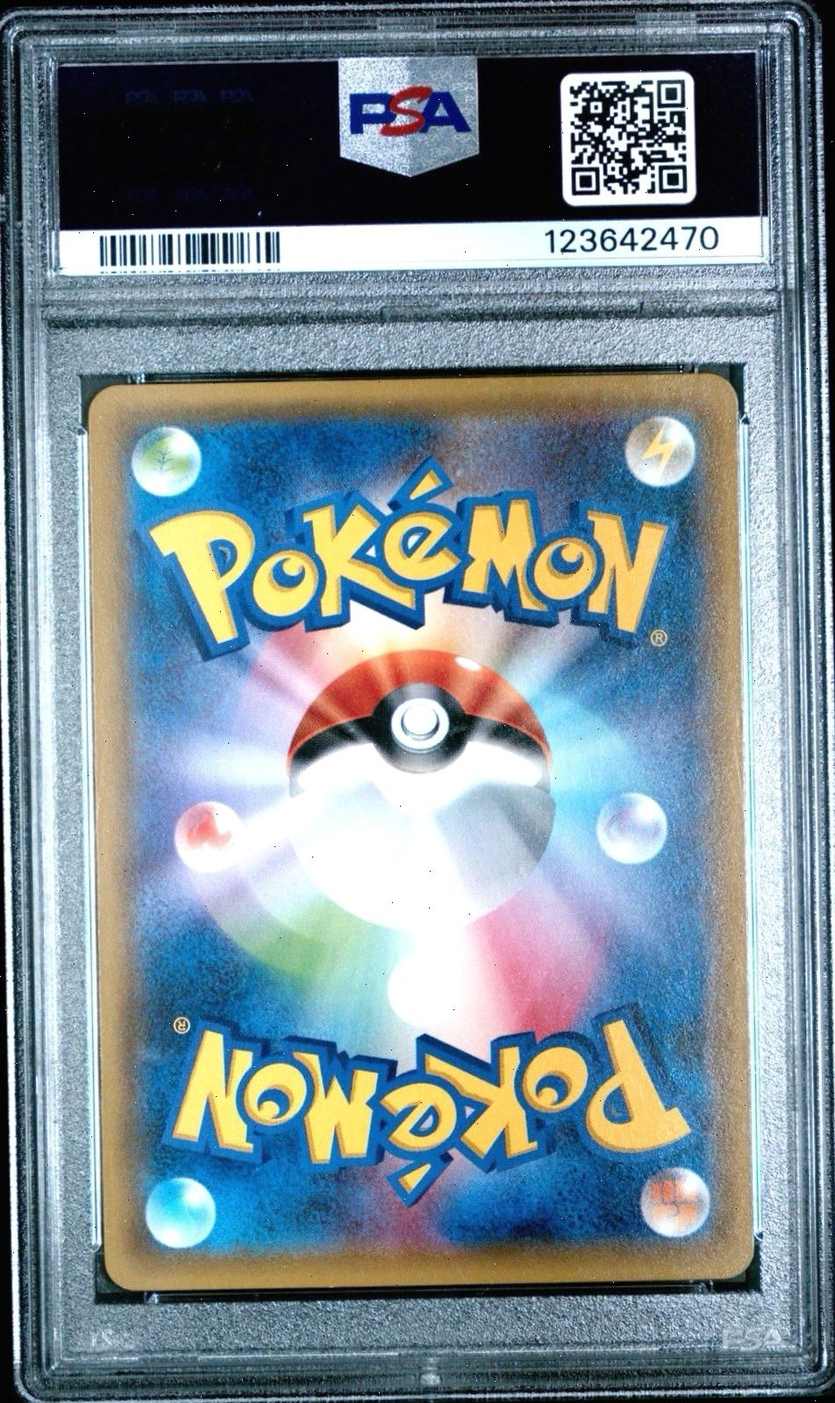card-2UtV: (87, 372, 755, 1292)
